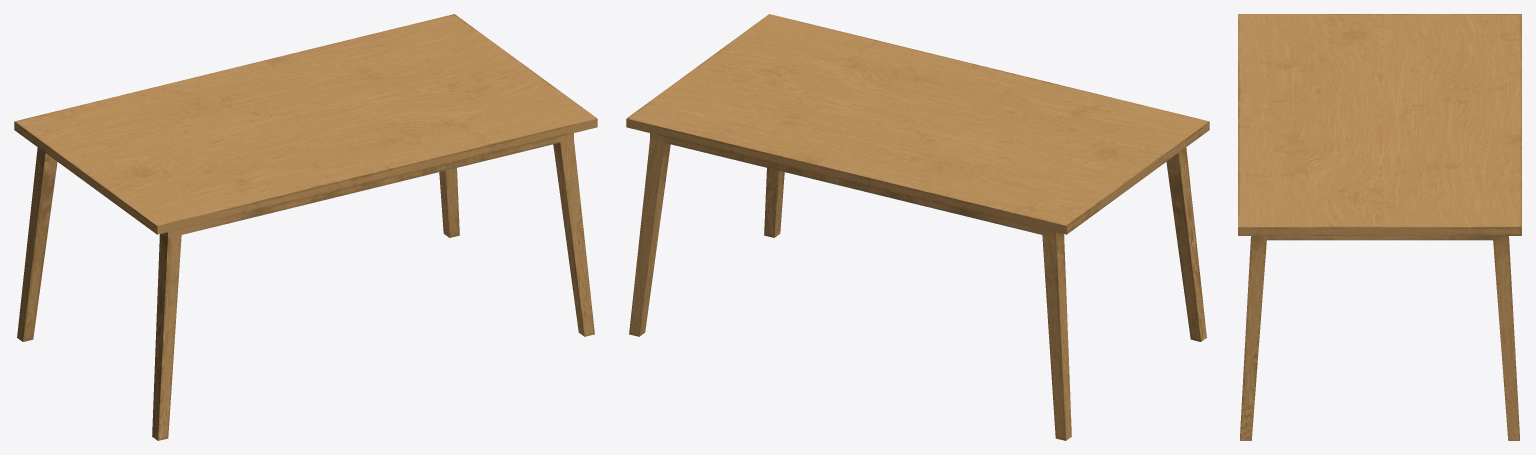
Rendered from mesa_b.glb.
3 renders of one model, left to right at view 1: azimuth 30°, elevation 25°; view 2: azimuth 150°, elevation 25°; view 3: azimuth 270°, elevation 25°, orthographic.
Visible parts, largest first — view 1: mesa_b; view 2: mesa_b; view 3: mesa_b.
Part boxes in pixels (left/top/right/bottom): mesa_b: left=14, top=14, right=597, bottom=440; mesa_b: left=626, top=14, right=1209, bottom=440; mesa_b: left=1238, top=14, right=1521, bottom=440.
Bounding box in the file's own units: 1.6 × 0.75 × 0.9.
Materials: 1 (1 with a texture image).
